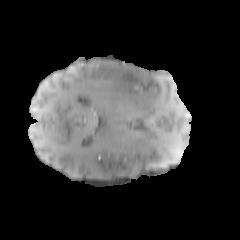glioma: (47, 60, 157, 103)
